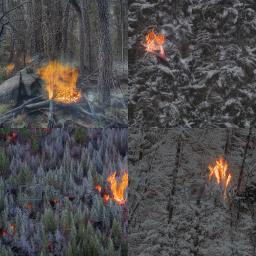Small fire: (19, 51, 95, 115), (78, 165, 143, 217), (200, 146, 241, 203), (139, 28, 176, 66)
